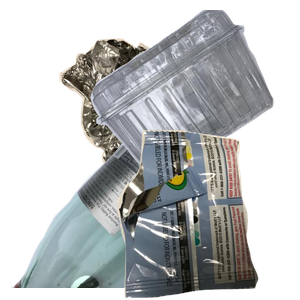glass: (10, 120, 224, 300)
metal: (57, 36, 241, 216)
plastic: (88, 10, 300, 180)
trash: (114, 130, 300, 300)
